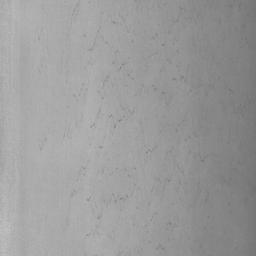Silk spot: (103, 195, 128, 206)
